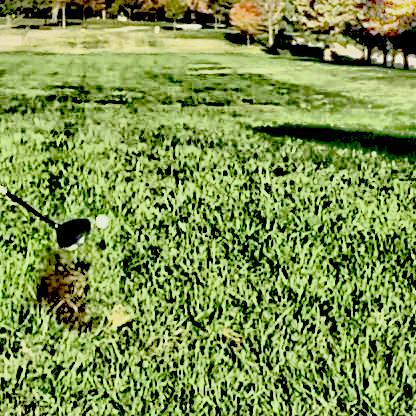golfball: (91, 210, 106, 225)
